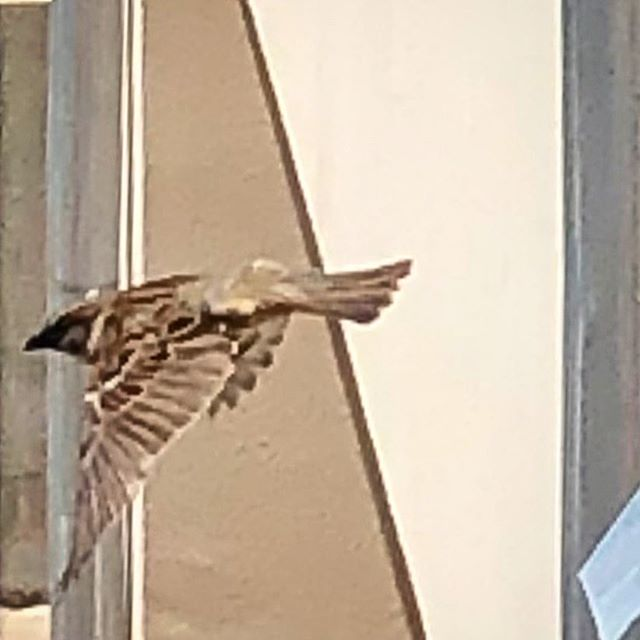animal: (1, 217, 422, 623)
